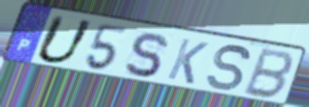5: (83, 21, 129, 72)
B: (240, 46, 297, 101)
K: (165, 37, 211, 87)
S: (205, 43, 253, 93), (122, 31, 169, 79)
U: (32, 13, 97, 66)
